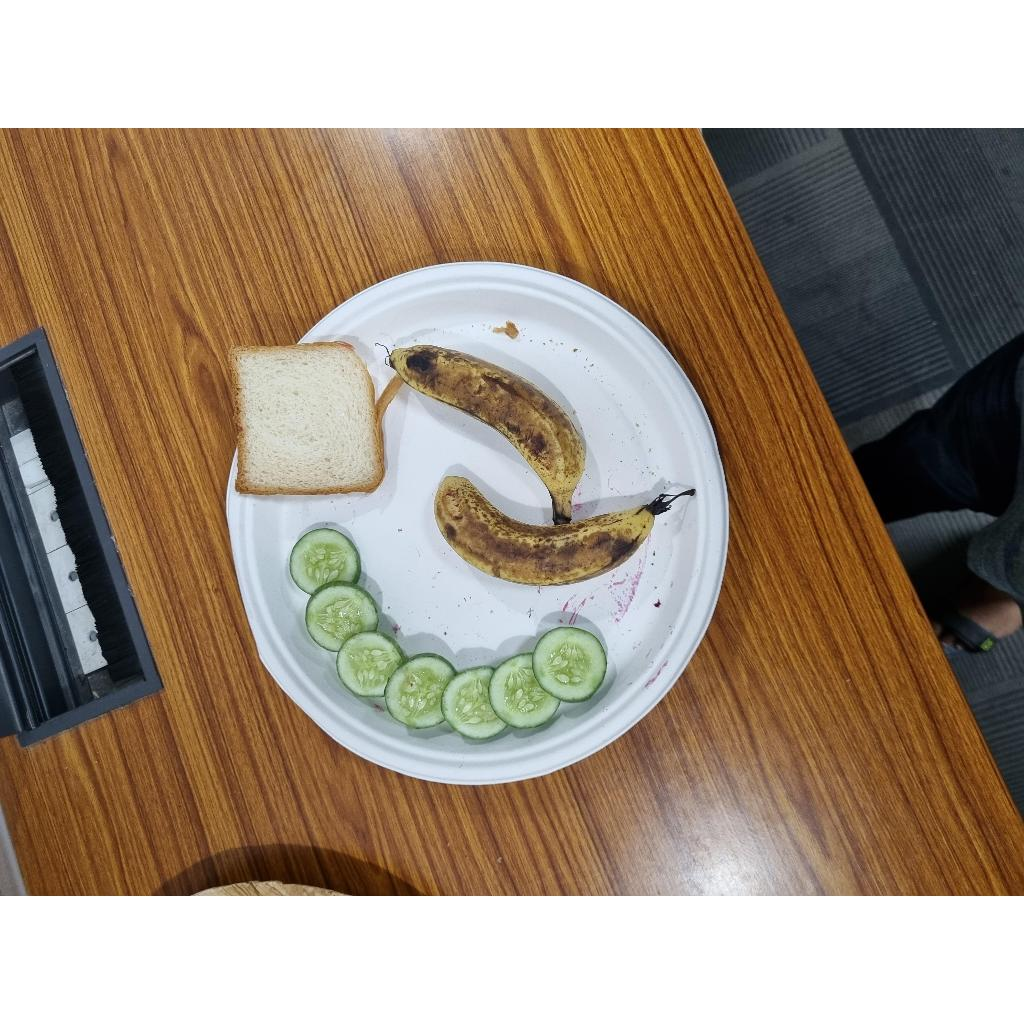banana: (390, 345, 585, 524), (435, 476, 671, 586)
cucumber: (532, 626, 607, 702), (384, 654, 456, 729), (489, 654, 560, 728), (305, 582, 379, 652), (442, 666, 507, 739), (290, 528, 360, 594), (337, 631, 405, 697)
